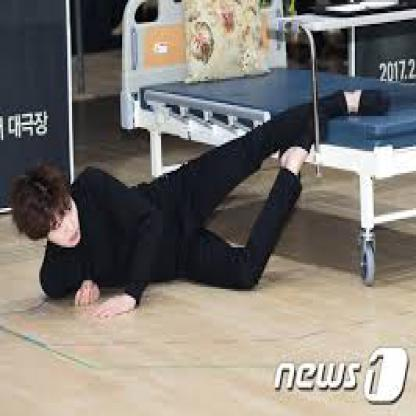Fall_Down: (9, 89, 390, 320)
